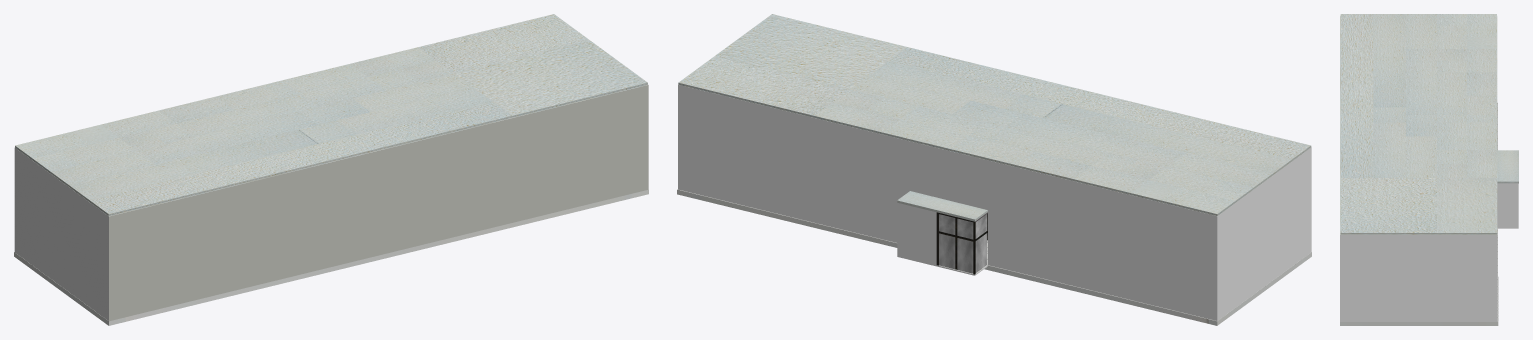
Rendered from A2__in_progress_with_texture_new.fbx.
The picture shows the model from 3 angles, left to right: view 1: azimuth 30°, elevation 25°; view 2: azimuth 150°, elevation 25°; view 3: azimuth 270°, elevation 25°; orthographic projection. The views are drawn at different scales.
Visible parts, largest first — view 1: First Floor, Roof, Ground; view 2: First Floor, Roof, Ground, Second Floor; view 3: Roof, First Floor, Ground, Second Floor.
Part boxes in pixels (box(x1,y1,x2,y2)): First Floor: box(14, 84, 648, 321); Roof: box(15, 14, 647, 215); Ground: box(14, 189, 648, 325); First Floor: box(678, 84, 1311, 320); Roof: box(678, 14, 1311, 215); Ground: box(677, 189, 1311, 325); Second Floor: box(897, 191, 987, 221); Roof: box(1340, 14, 1496, 234); First Floor: box(1340, 15, 1518, 321); Ground: box(1340, 102, 1498, 325); Second Floor: box(1497, 150, 1518, 183).
Bounding box in the file's own units: 9504 × 1873 × 3273.
